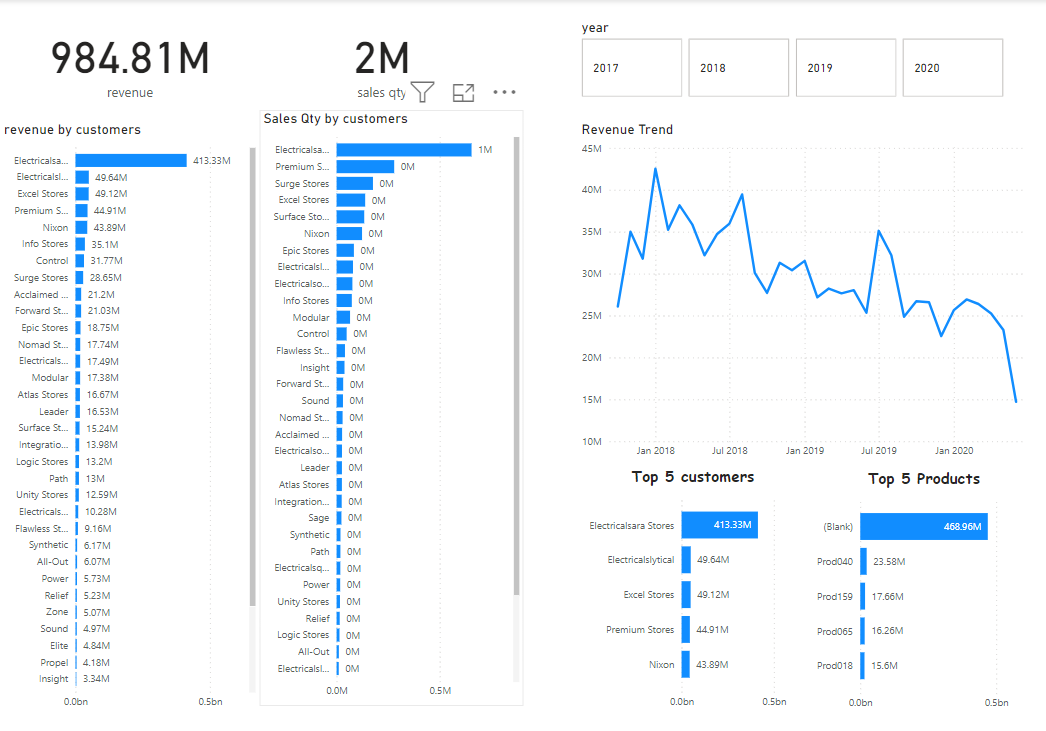

What the dashboard file says about the page in this screenshot:
{"tool":"powerbi","page":{"name":"Page 1","canvas":[1280,900],"ordinal":0},"visuals":[{"type":"card","fields":{"Values":["basemeasures.revenue"]},"box":[0,0,317.6,148.7],"z":0},{"type":"card","fields":{"Values":["basemeasures.sales qty"]},"box":[317.6,0,299.2,148.7],"z":1000},{"type":"barChart","title":"revenue by customers","fields":{"Y":["basemeasures.revenue"],"Category":["sales customers.custmer_name"]},"box":[0,148.7,317.6,728.7],"z":2000},{"type":"barChart","title":"Sales Qty by customers","fields":{"Y":["basemeasures.sales qty"],"Category":["sales customers.custmer_name"]},"box":[317.6,135.8,323.1,728.7],"z":3000},{"type":"advancedSlicerVisual","fields":{"Values":["sales date.year"]},"box":[706.7,23.9,526.8,101],"z":4000},{"type":"barChart","title":"Top 5 customers","fields":{"Y":["basemeasures.revenue"],"Category":["sales customers.custmer_name"]},"box":[706.7,570.9,282.7,306.5],"z":5000},{"type":"barChart","title":"Top 5 Products","fields":{"Y":["basemeasures.revenue"],"Category":["sales products.product_code"]},"box":[989.4,572.7,282.7,306.5],"z":6000},{"type":"lineChart","title":"Revenue Trend","fields":{"Category":["sales date.cy_date.Variation.Date Hierarchy.Year","sales date.cy_date.Variation.Date Hierarchy.Quarter","sales date.cy_date.Variation.Date Hierarchy.Month","sales date.cy_date.Variation.Date Hierarchy.Day"],"Y":["basemeasures.revenue"]},"box":[706.7,148.7,565.4,422.2],"z":6001}]}

Visuals, with their boxes in screenshot pixels (x1, y1, x2, y2), scaled from the page's 1280x900 canvas onto the 1046x731 screenshot:
card - basemeasures.revenue: select_region(0, 0, 260, 121)
card - basemeasures.sales qty: select_region(260, 0, 504, 121)
"revenue by customers" barChart: select_region(0, 121, 260, 713)
"Sales Qty by customers" barChart: select_region(260, 110, 524, 702)
advancedSlicerVisual - sales date.year: select_region(578, 19, 1008, 101)
"Top 5 customers" barChart: select_region(578, 464, 809, 713)
"Top 5 Products" barChart: select_region(809, 465, 1040, 714)
"Revenue Trend" lineChart: select_region(578, 121, 1040, 464)
